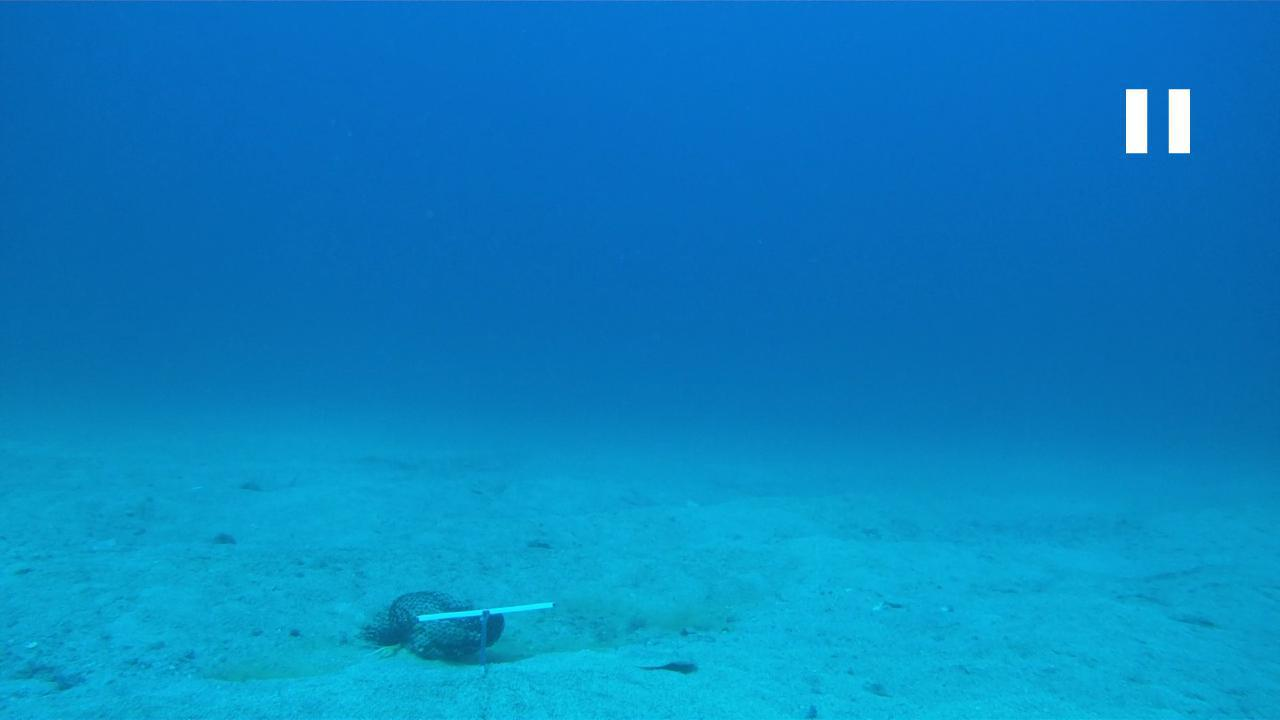bothus: (614, 639, 706, 678)
